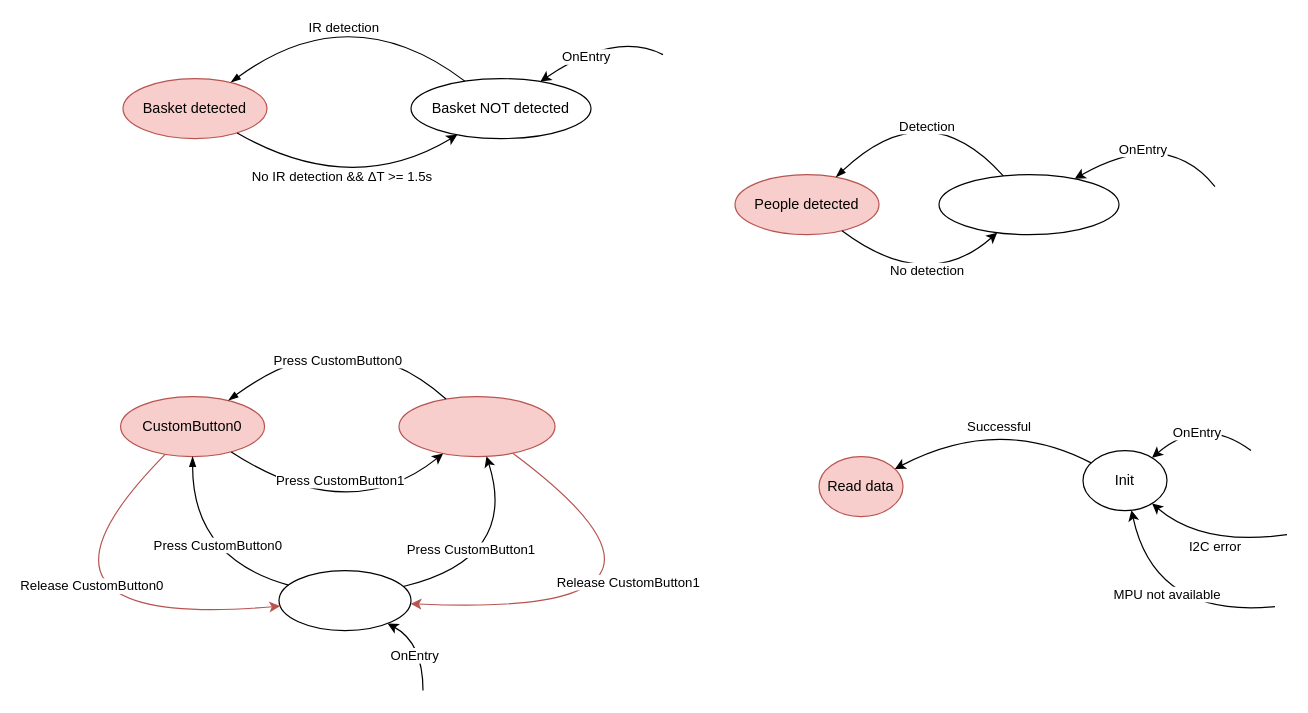
Some shapes in this 1308 by 713 pixel diagram are drawn without their labels. Here are the shapes that lost their labels. From the top down, the centre of each, then its label:
At point (1028, 204): "People NOT detected".
At point (476, 426): "CustomButton1".
At point (344, 600): "No input".
